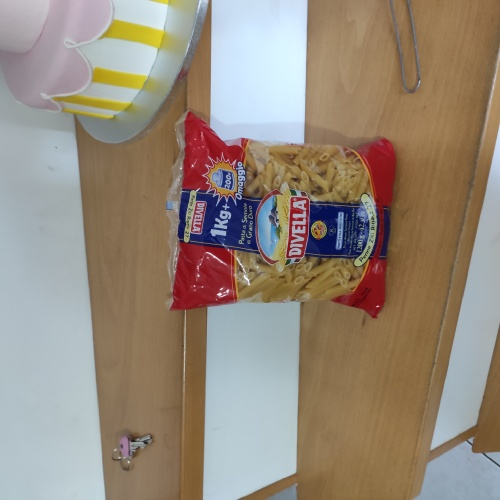pasta: (185, 135, 396, 311)
